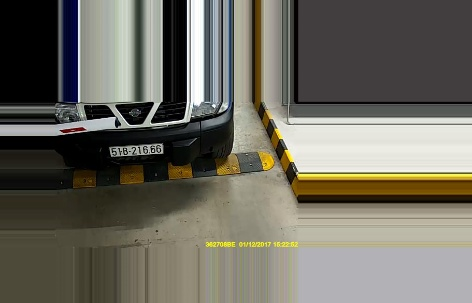plate: (107, 141, 165, 159)
